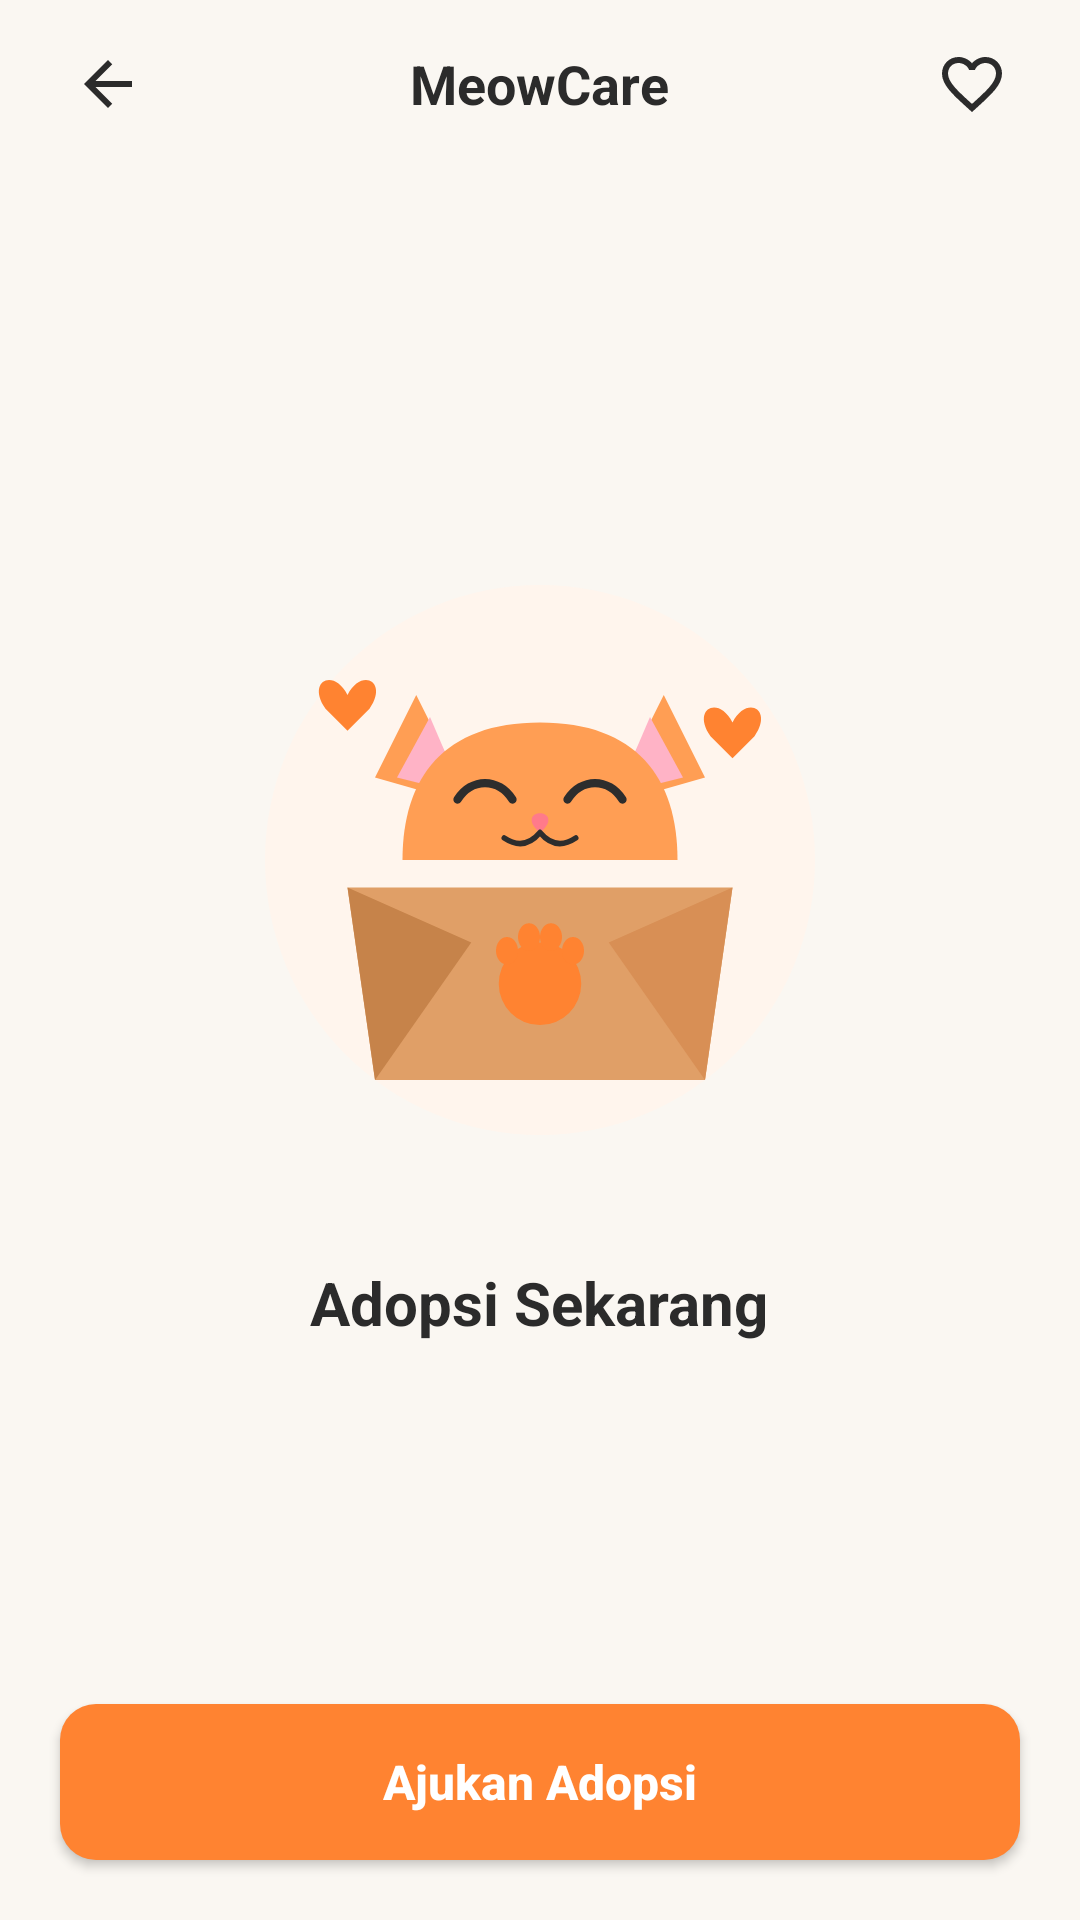

Locate icon controls on the screen. Image size 1080px x 1920px, boxes as [left=x1, top=y1, right=x2, bottom=y2].
Back: [left=84, top=60, right=132, bottom=108]
Favorite: [left=942, top=57, right=1002, bottom=112]
